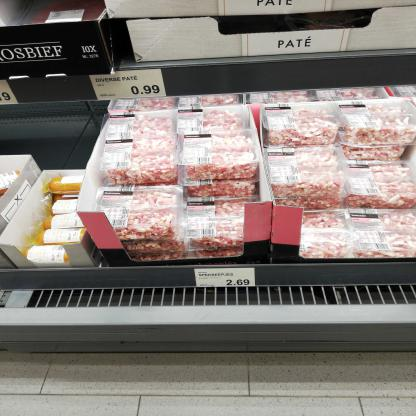prtg: (90, 69, 167, 101), (195, 269, 256, 288), (1, 81, 19, 105)
